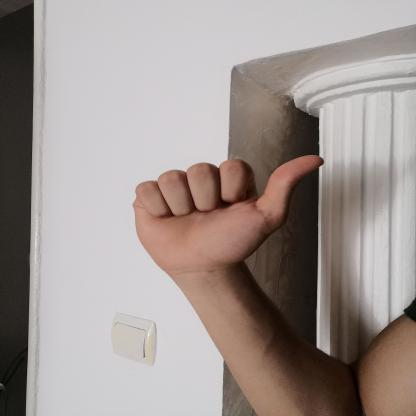DAD: (119, 146, 336, 284)
